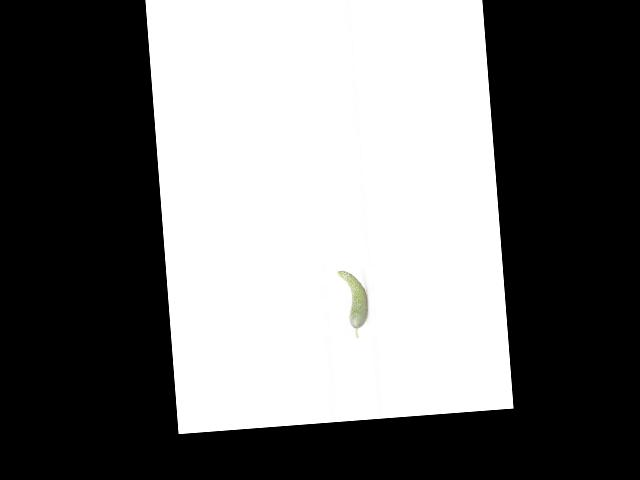cucumber: (337, 269, 370, 339)
